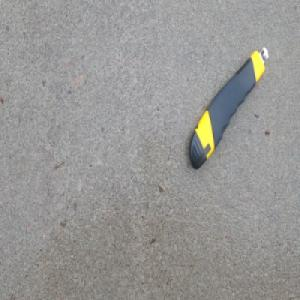Cutter: (188, 45, 270, 172)
